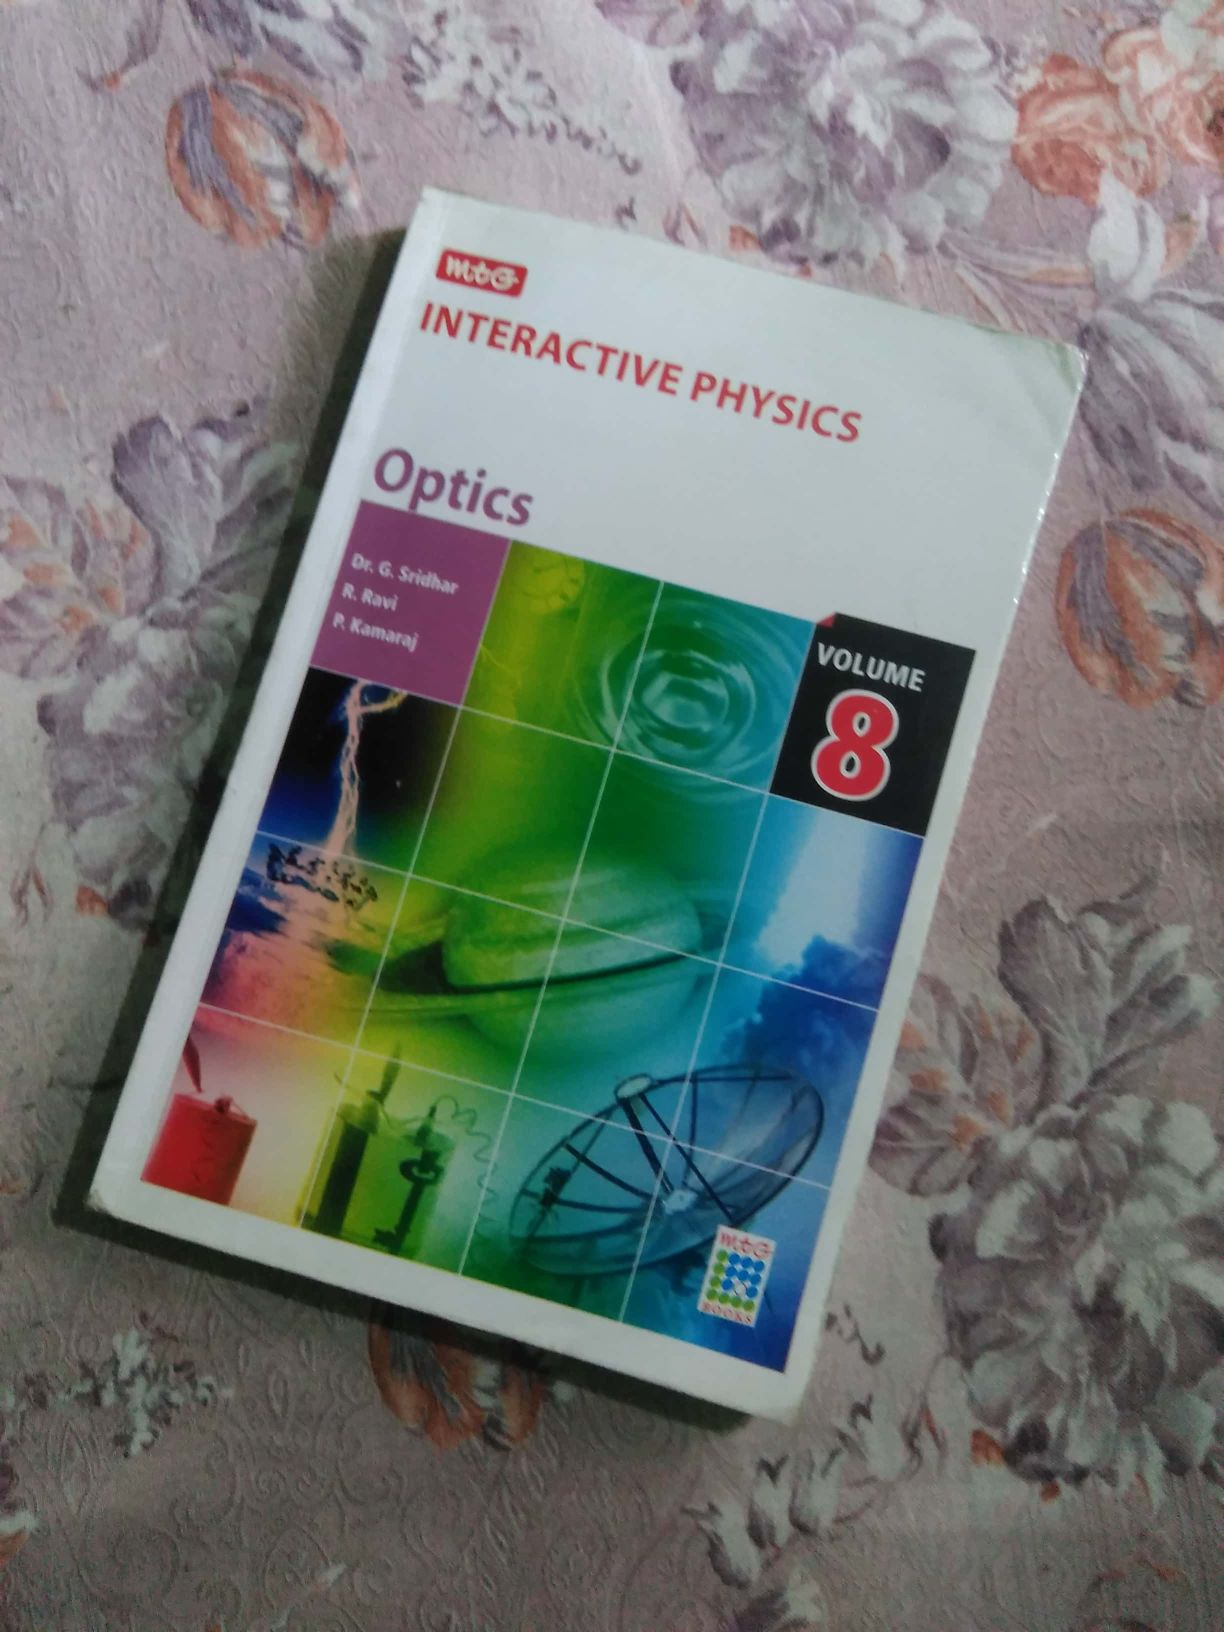optics: (134, 206, 1077, 1475)
